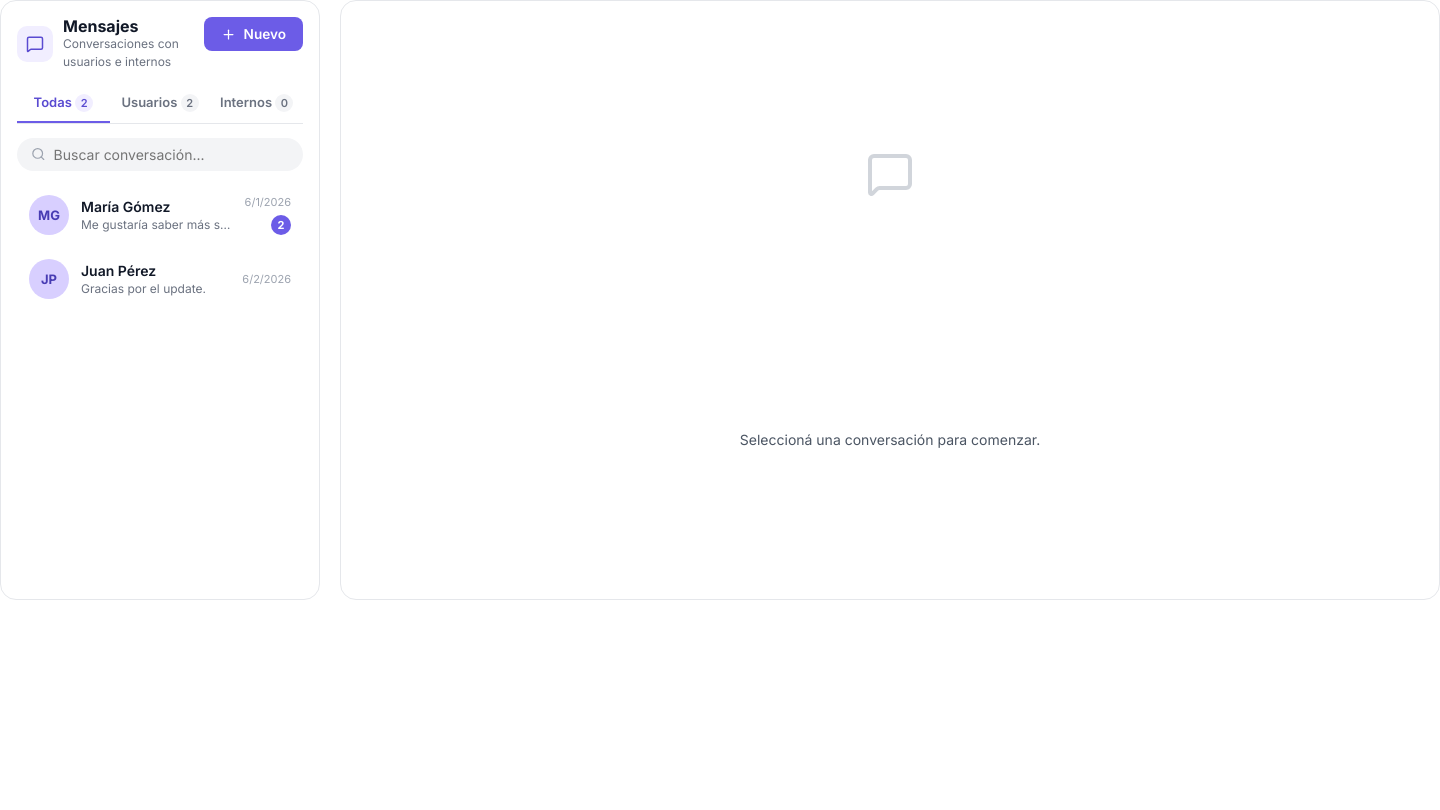
Test: MensajesSection › envía un mensaje y lo agrega al hilo
The width and height of the screenshot is (1440, 810).
Click the button "MG María Gómez Me gustaría saber más sobre Luna. 6/1/2026 2".
click(160, 215)  # box x1=17 y1=185 x2=303 y2=245
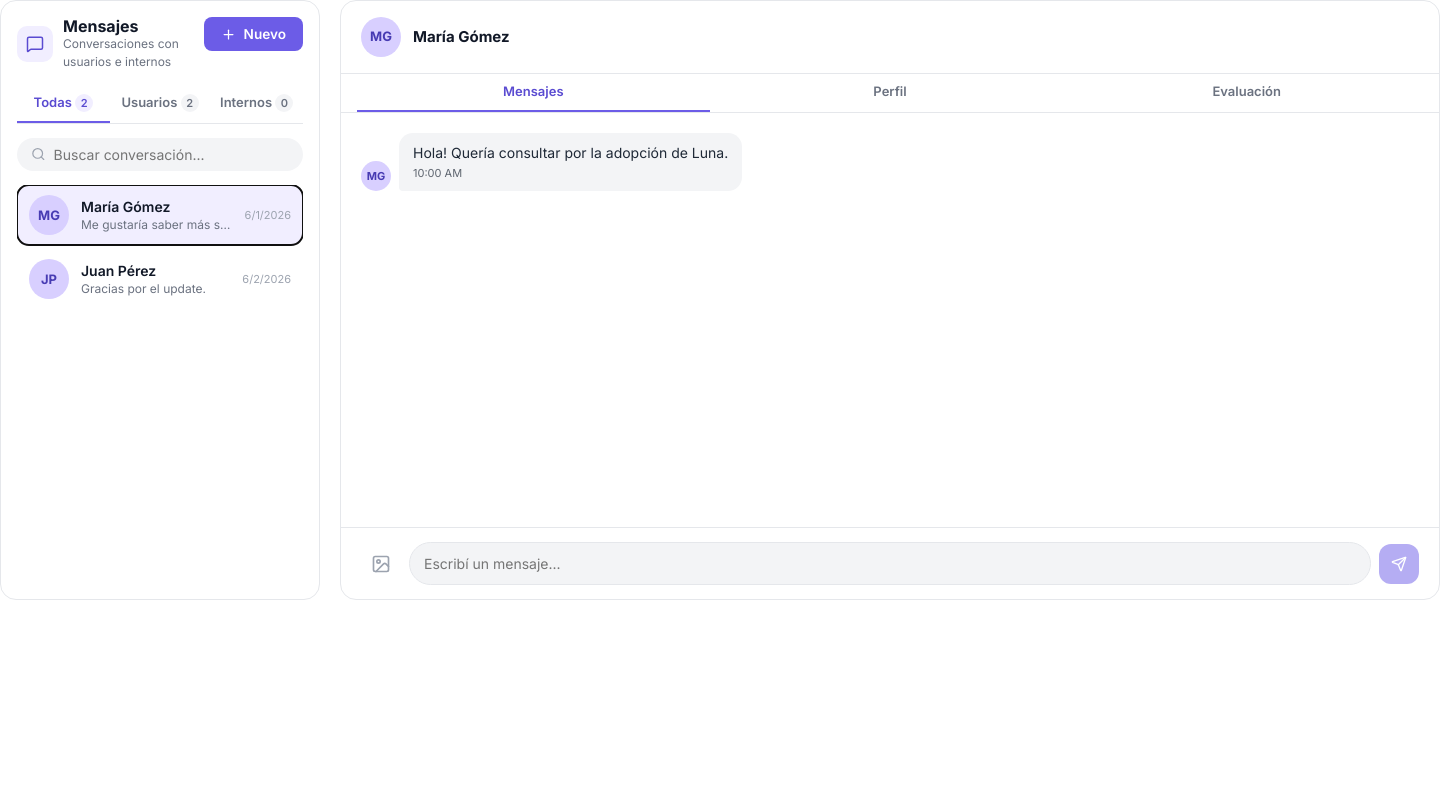
Now the button named "Enviar mensaje" is disabled, box x1=1379 y1=544 x2=1419 y2=584
Type "Coordinamos para mañana 16hs" into the field labelled "Escribí un mensaje".
click(890, 564); type("Coordinamos para mañana 16hs")  # box x1=409 y1=542 x2=1371 y2=585
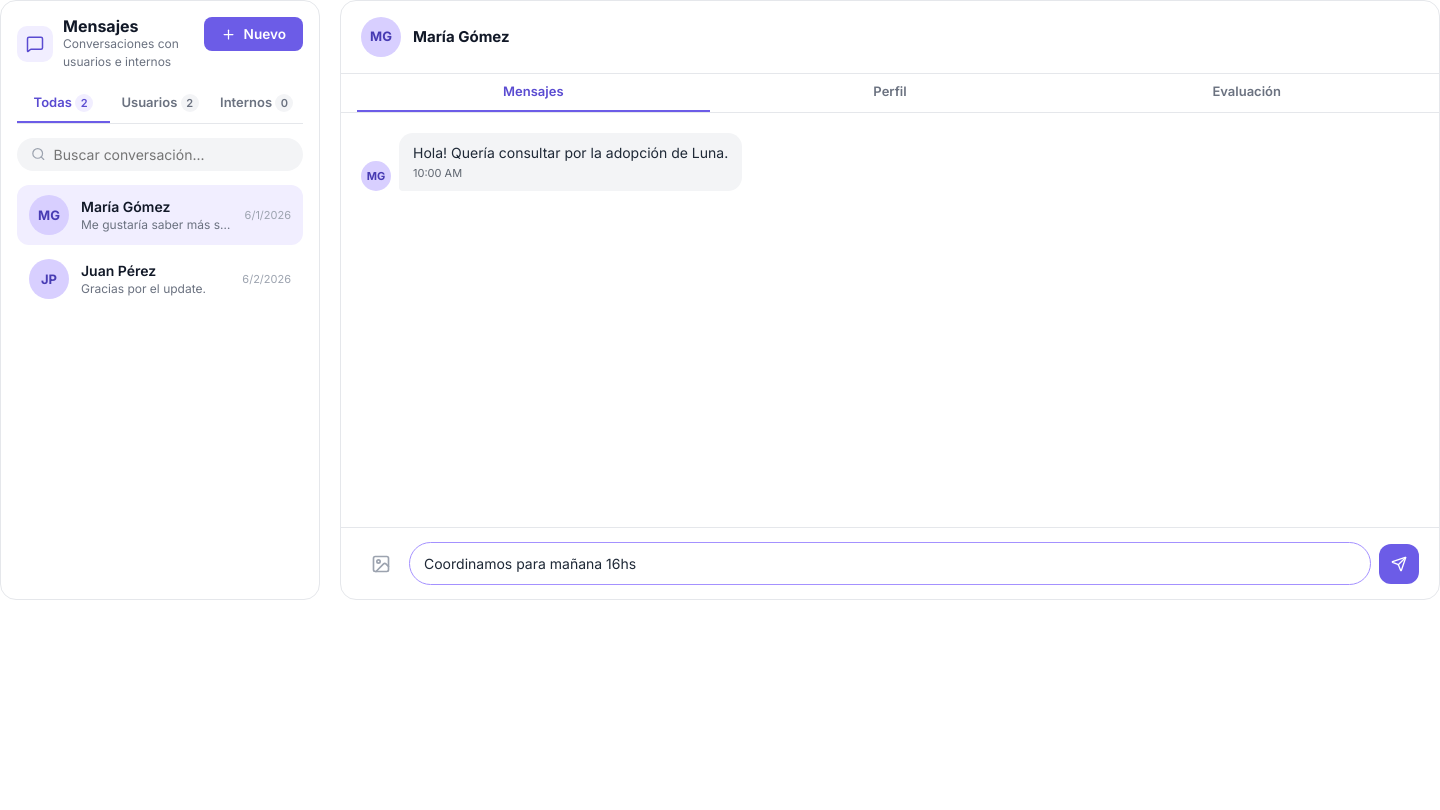
Now the button named "Enviar mensaje" is enabled
Click the button named "Enviar mensaje".
click(1399, 564)  # box x1=1379 y1=544 x2=1419 y2=584
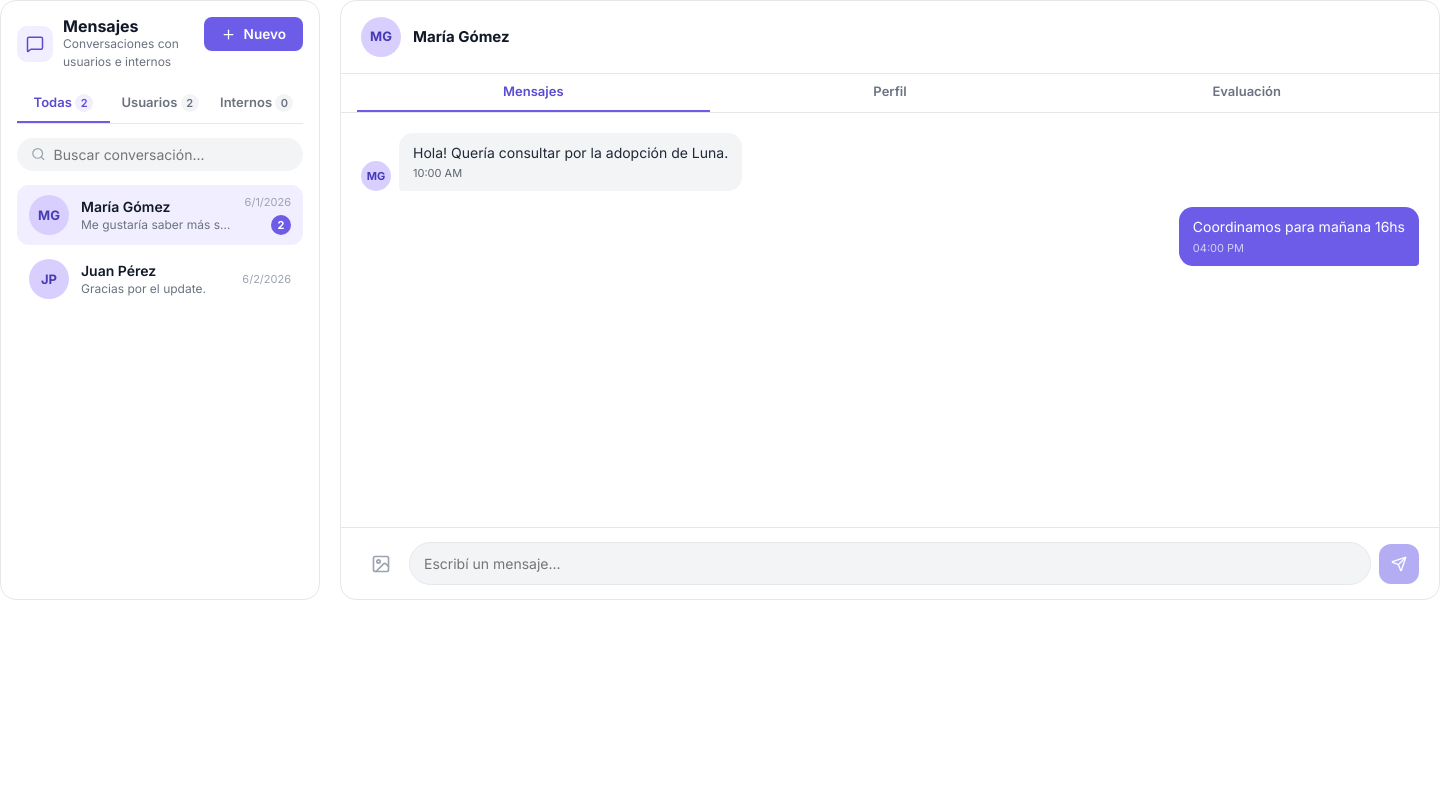
Now the text "Coordinamos para mañana 16hs" is shown, box x1=1193 y1=218 x2=1405 y2=237
Now the field labelled "Escribí un mensaje" is empty, box x1=409 y1=542 x2=1371 y2=585
